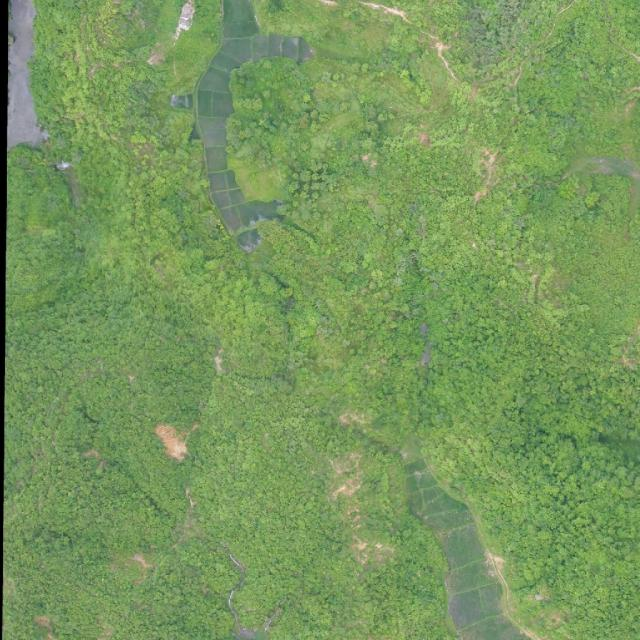agricultural_land: (165, 0, 322, 255)
